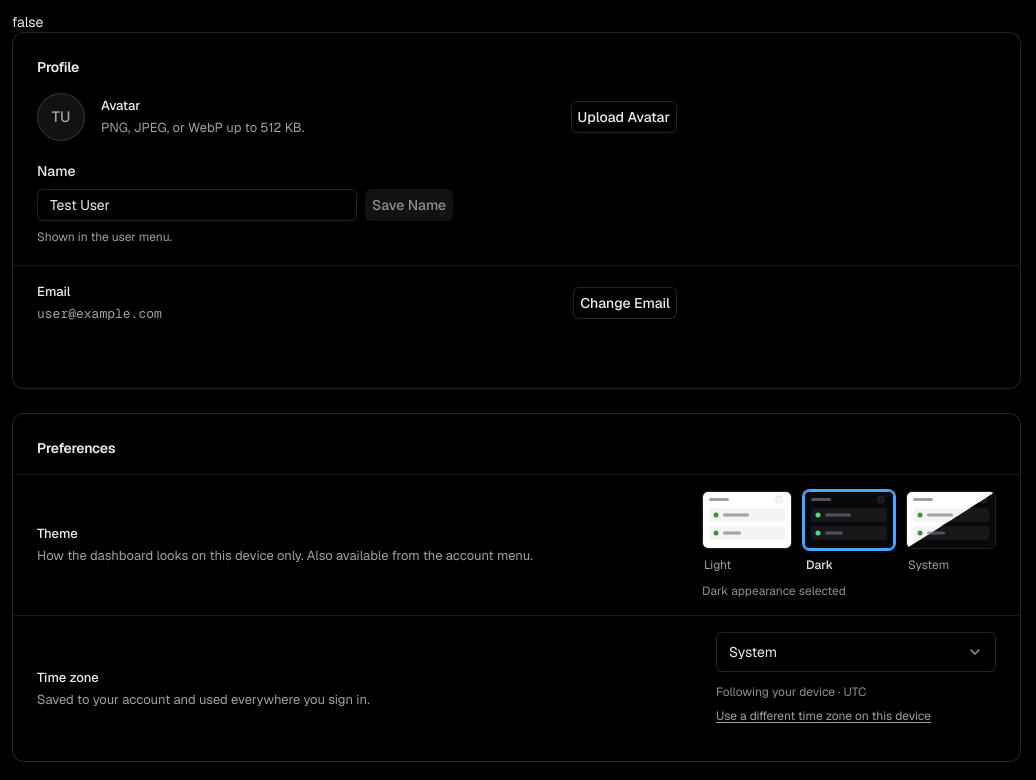
Test case: AccountSettings › marks the settings shell dirty while the email form has input
The width and height of the screenshot is (1036, 780).
Click the button "Change Email". click: x=625, y=303
box: [573, 287, 677, 319]
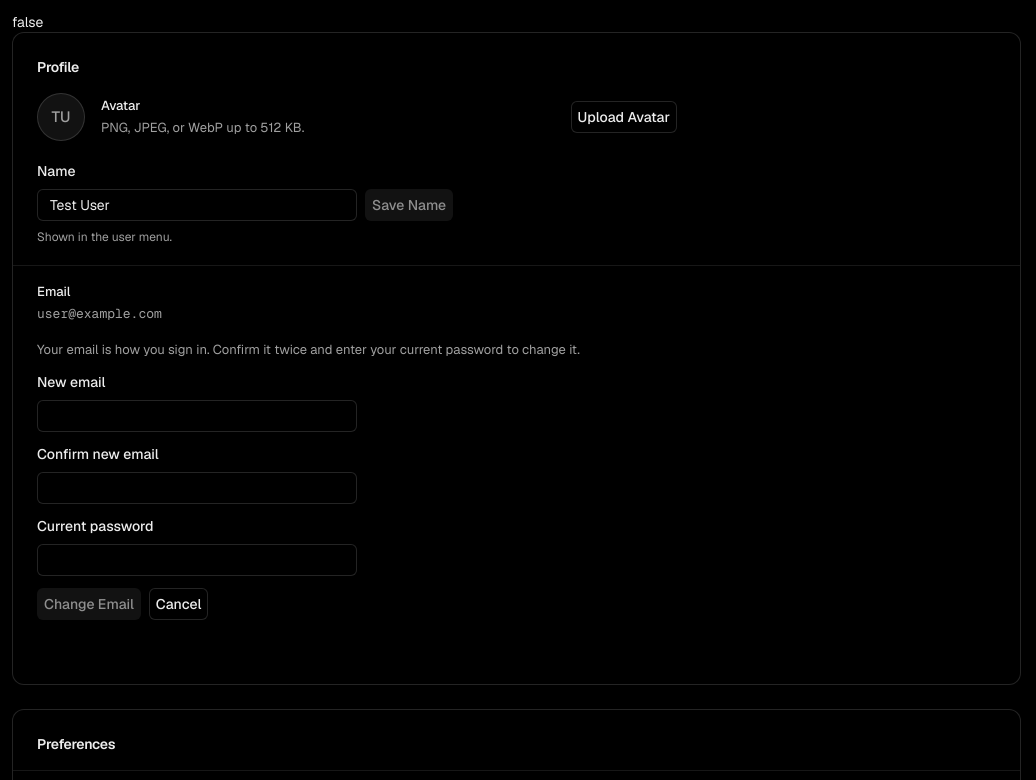
expect the text with test id "dirty" reads "false": met, box [12, 13, 43, 31]
Type "new@example.com" into the field labelled "New email". click: x=197, y=416
box: [37, 400, 357, 432]
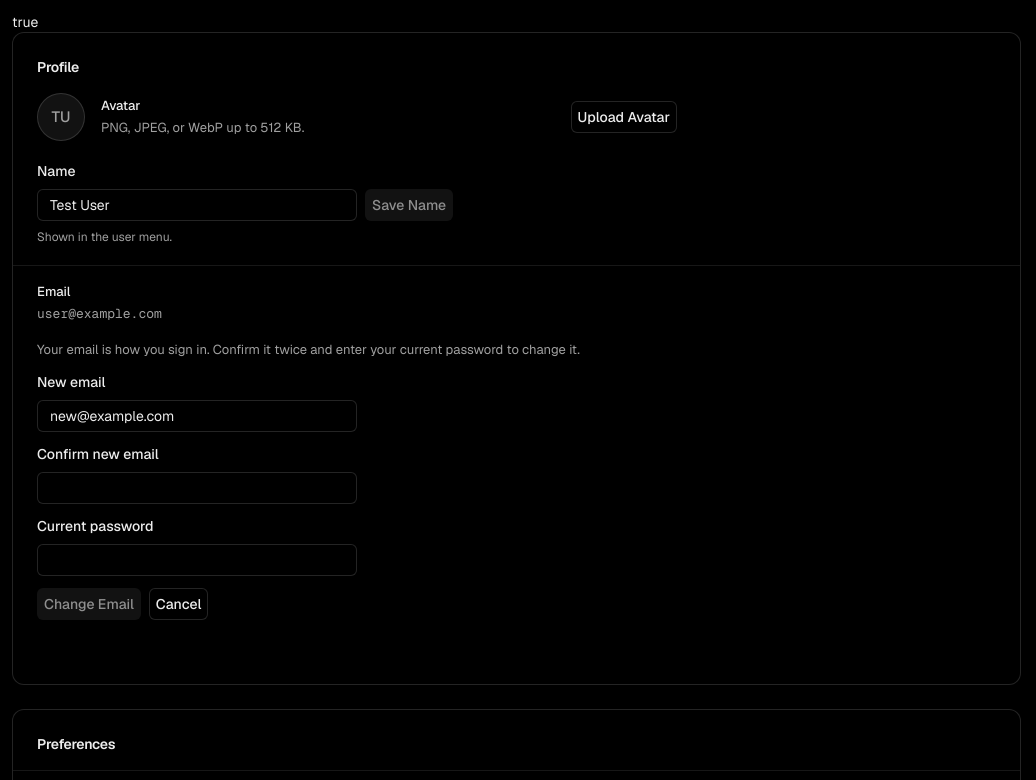
expect the text with test id "dirty" reads "true": met, box [12, 13, 38, 31]
Click the button "Cancel". click: x=179, y=604
box: [149, 588, 208, 620]
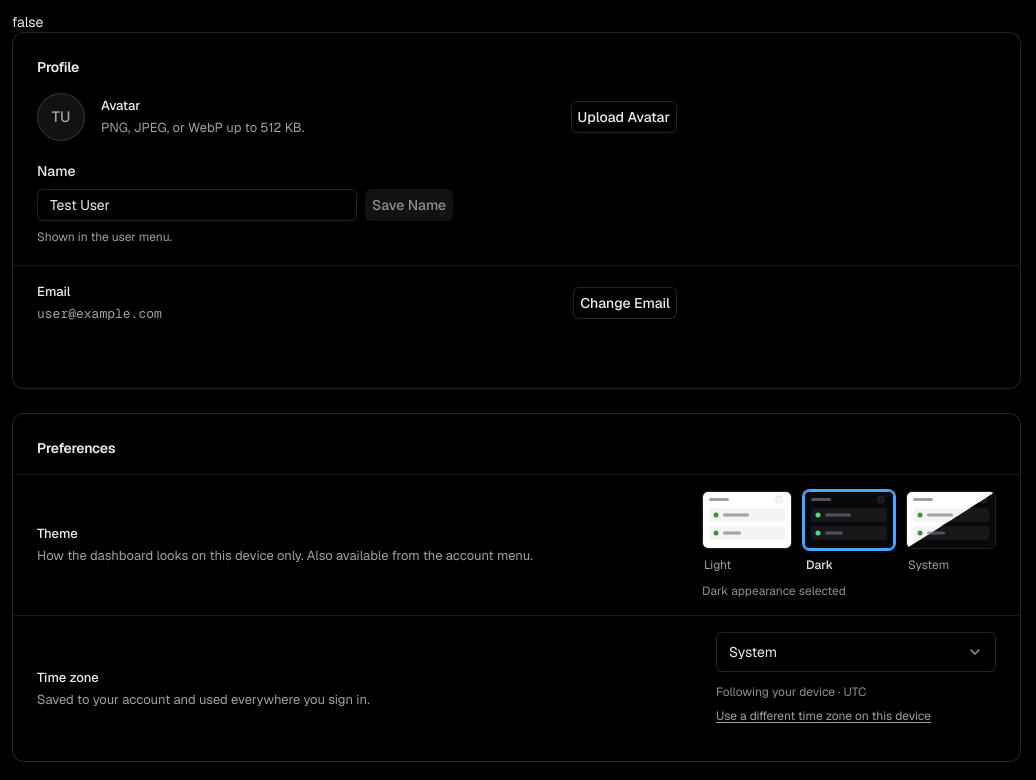
expect the text with test id "dirty" reads "false": met, box [12, 13, 43, 31]
